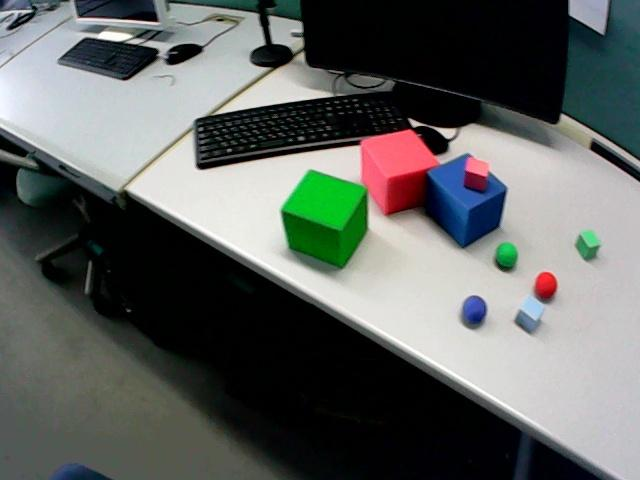blue_block: (426, 154, 506, 246), (515, 295, 544, 332), (49, 463, 109, 479)
red_block: (361, 130, 438, 214), (464, 157, 488, 191)
